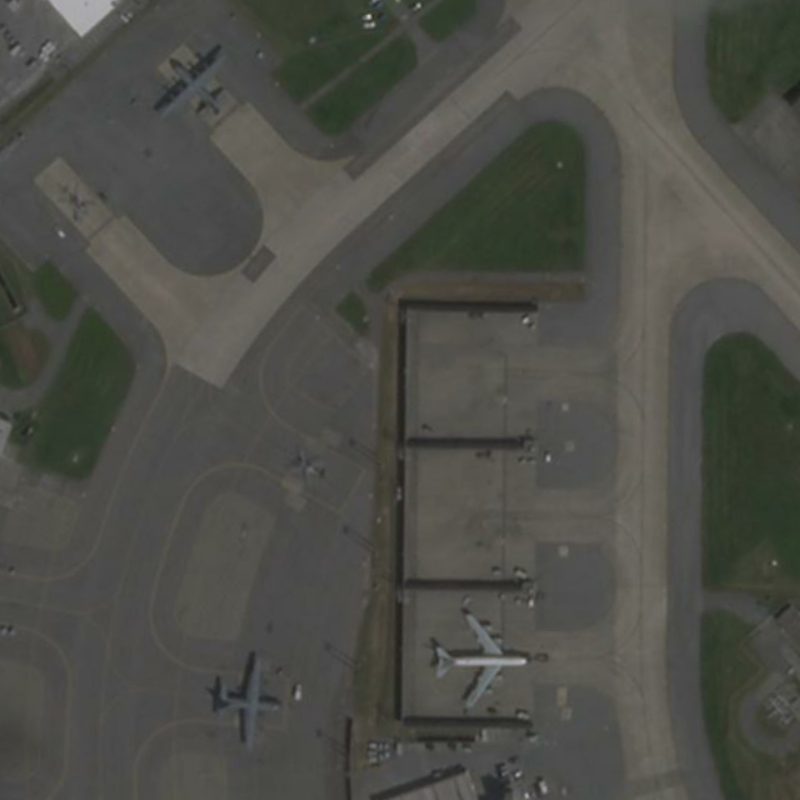A11: (428, 596, 542, 715)
A2: (201, 648, 287, 749), (145, 35, 233, 121)
